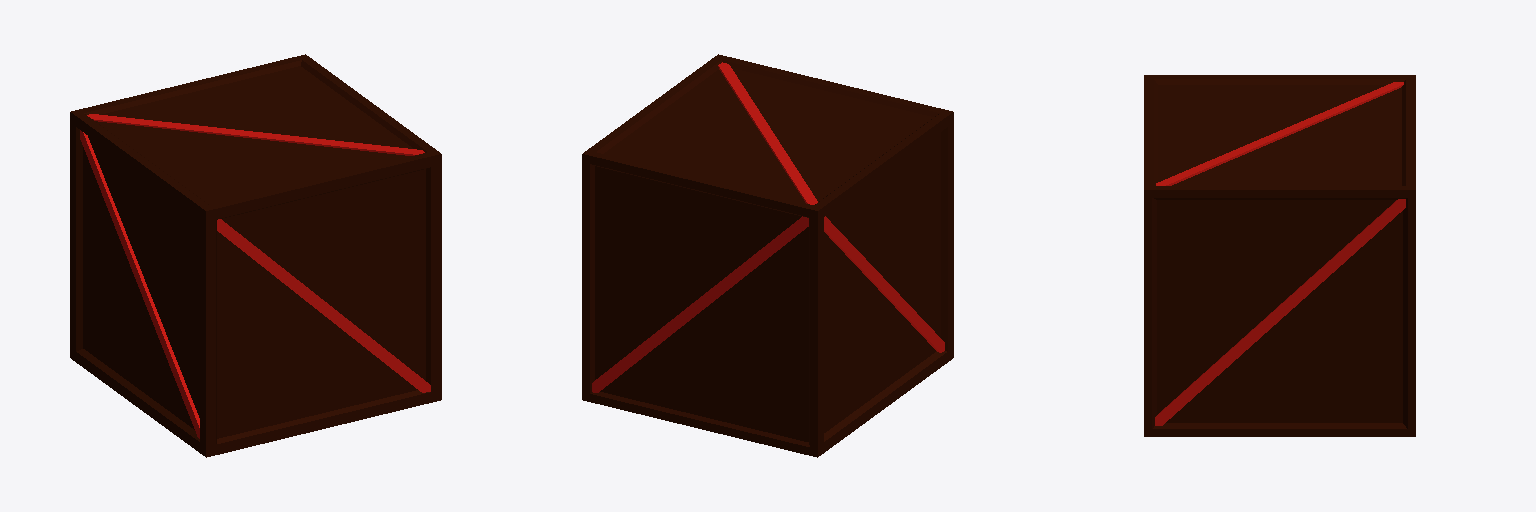
File: wall_2.obj
3 renders of one model, left to right at view 1: azimuth 30°, elevation 25°; view 2: azimuth 150°, elevation 25°; view 3: azimuth 270°, elevation 25°, orthographic.
Visible parts, largest first — view 1: Cube.006_Cube.017, Cube.003_Cube.025, Cube.001_Cube.023, Cube.005_Cube.027; view 2: Cube.006_Cube.017, Cube.004_Cube.026, Cube.001_Cube.023, Cube.005_Cube.027; view 3: Cube.006_Cube.017, Cube.002_Cube.024, Cube.005_Cube.027.
Boxes of the visible parts, <box> form: Cube.006_Cube.017: <box>70,54,441,457</box>; Cube.003_Cube.025: <box>217,219,430,392</box>; Cube.001_Cube.023: <box>80,130,199,438</box>; Cube.005_Cube.027: <box>87,114,424,155</box>; Cube.006_Cube.017: <box>582,54,953,457</box>; Cube.004_Cube.026: <box>592,216,808,392</box>; Cube.001_Cube.023: <box>824,216,944,352</box>; Cube.005_Cube.027: <box>718,62,817,204</box>; Cube.006_Cube.017: <box>1144,75,1415,436</box>; Cube.002_Cube.024: <box>1155,199,1405,425</box>; Cube.005_Cube.027: <box>1156,82,1403,185</box>.
Bounding box in the file's own units: 4.95 × 4.95 × 4.95.